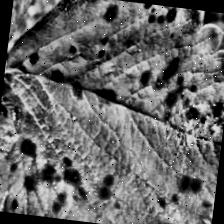Leaf Spot: (0, 0, 224, 224), (192, 10, 224, 60)
